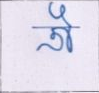ai_matra: (48, 2, 76, 26)
